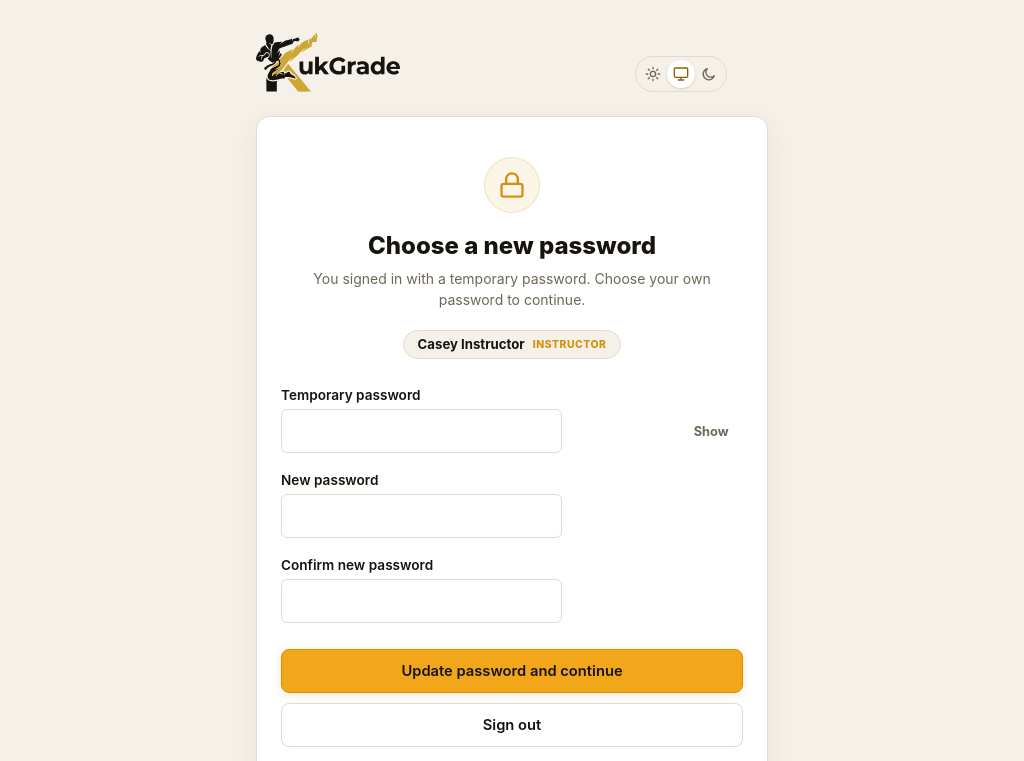
Test: Mandatory password change › submits change password, refetches user, and unlocks navigation on success
This screenshot has width=1024, height=761.
Expected: the heading "Choose a new password" is shown, [368,233,656,260]
Type "temp-secret-123" into the password field labelled "Temporary password" at (422, 431), box [281,409,562,453]
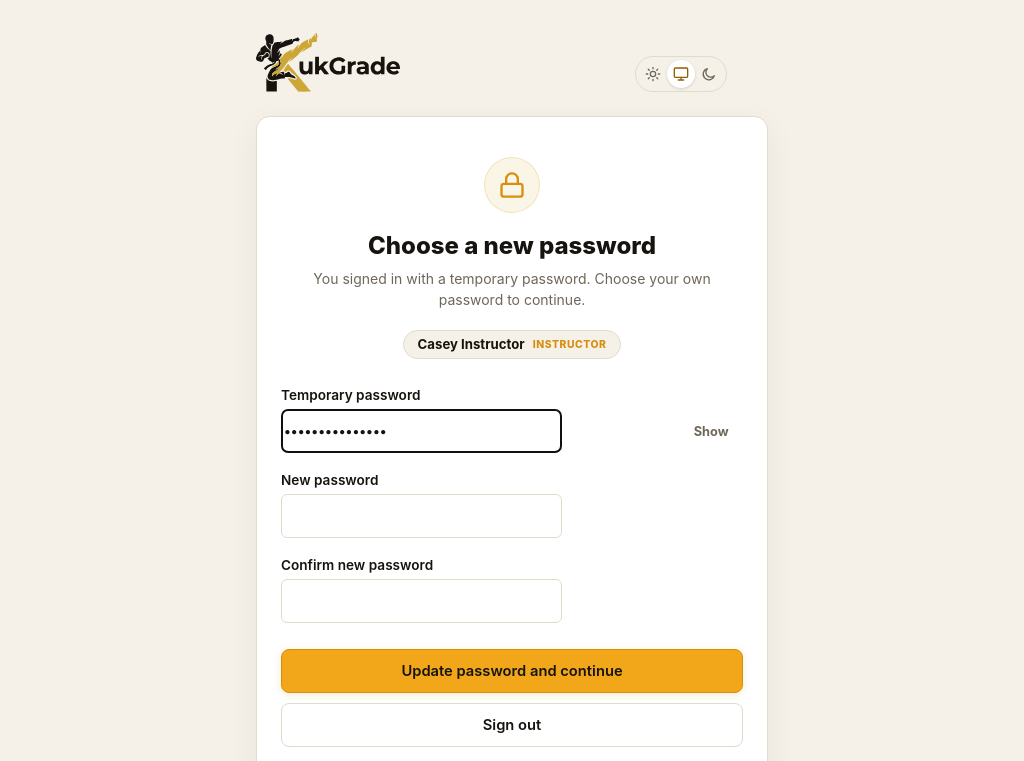
Type "NewSecretPass123!" into the password field labelled "New password" at (422, 516), box [281,494,562,538]
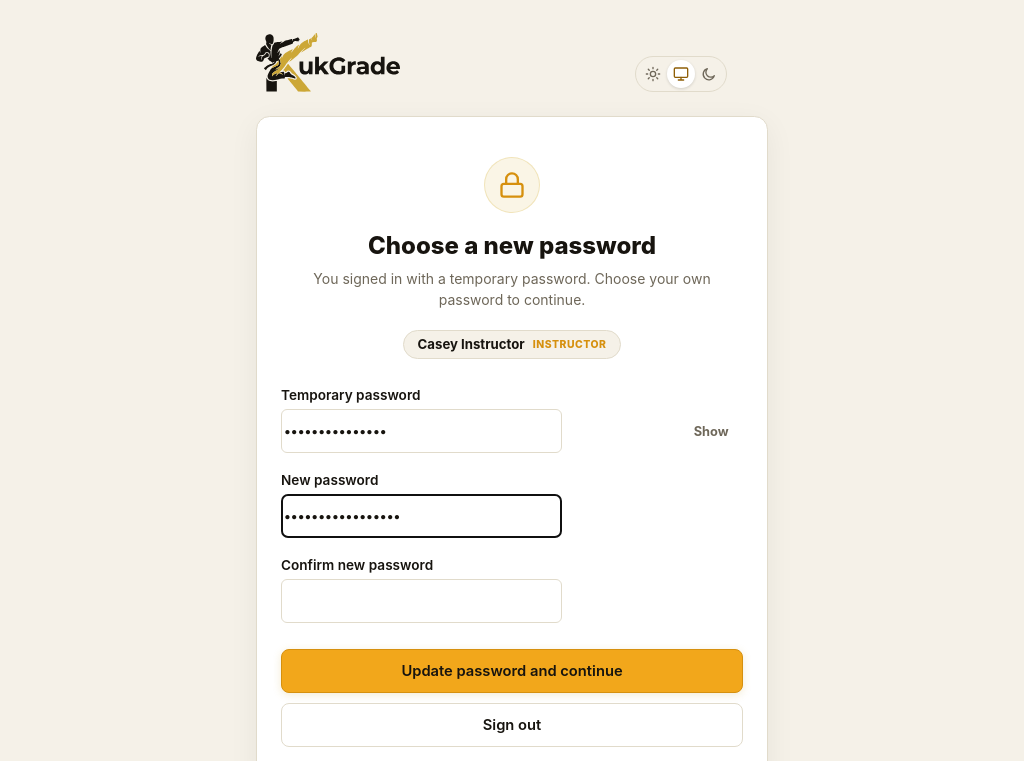
Type "NewSecretPass123!" into the password field labelled "Confirm new password" at (422, 601), box [281,579,562,623]
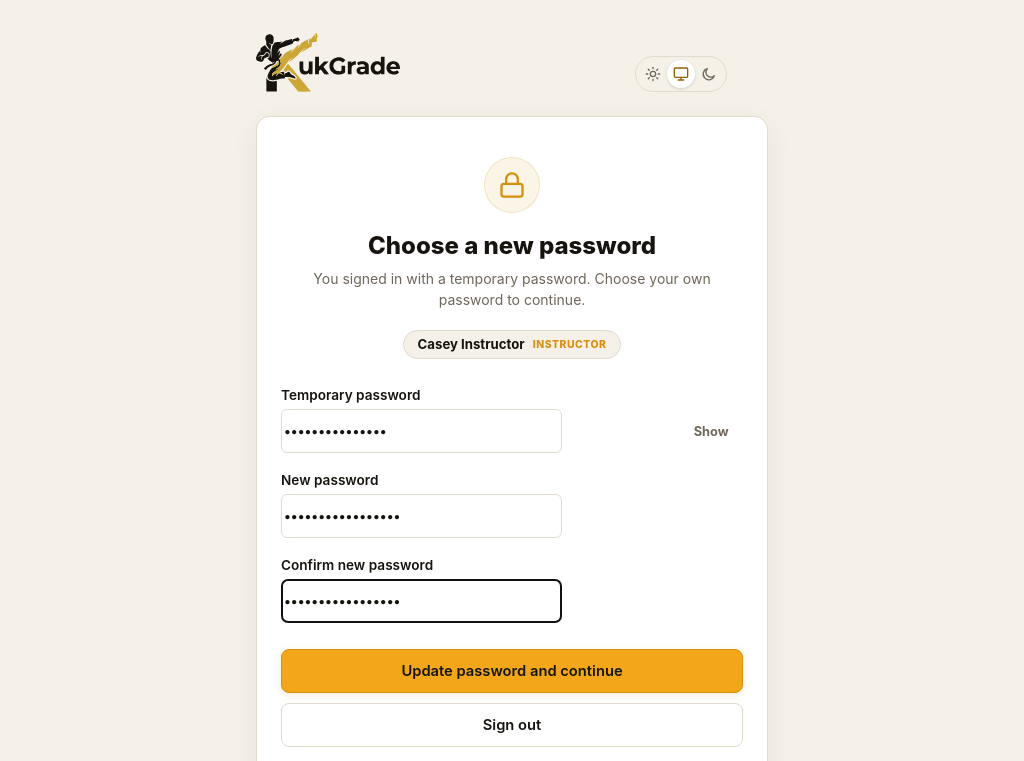
Click the button "Update password and continue" at (512, 671), box [281,649,743,693]
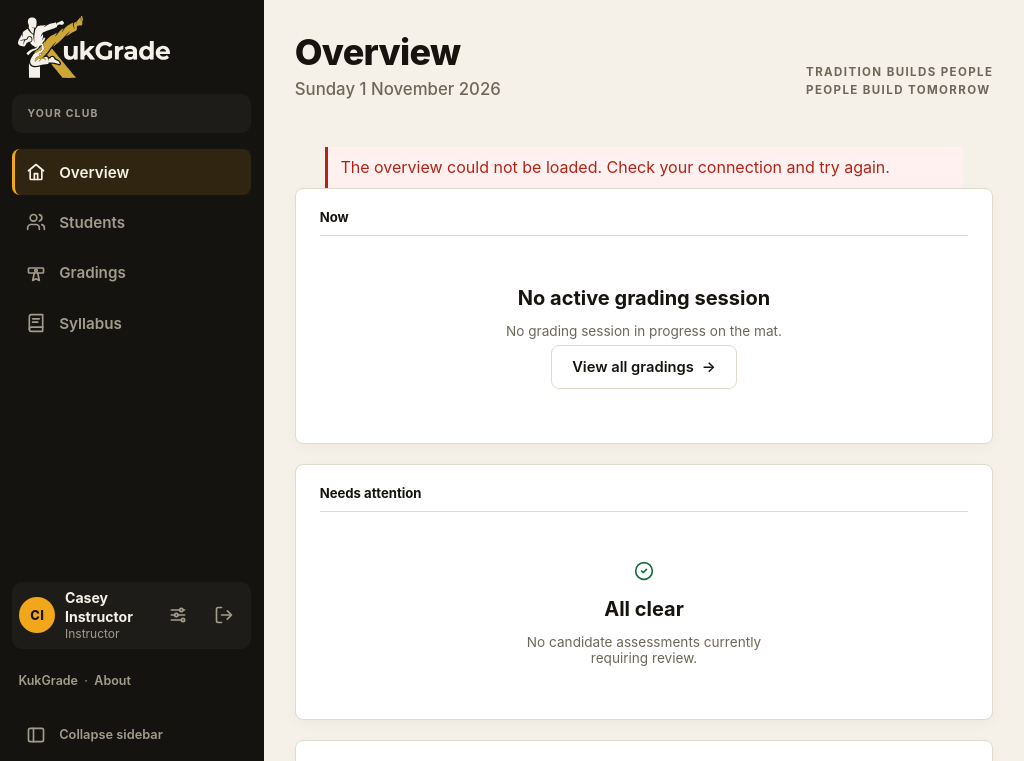
Expected: the heading "Overview" is shown, [295,30,460,74]
Expected: the navigation bar named "Main navigation" is shown, [12,149,251,346]
